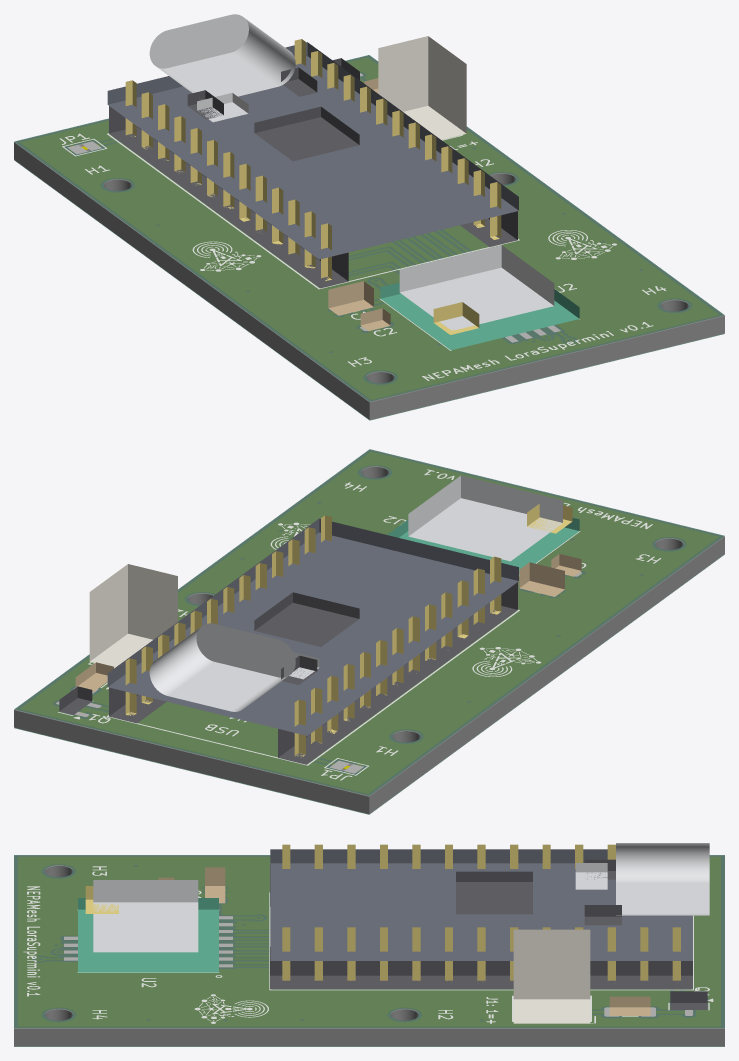
The model's file is nepamesh_lorasupermini_assembled.glb.
3 views of the same model, one above another, from view 1: azimuth 30°, elevation 25°; view 2: azimuth 150°, elevation 25°; view 3: azimuth 270°, elevation 25° (orthographic).
Parts seen in each view (by area): view 1: =>[0:1:1:6]_87a244, =>[0:1:1:2]_e6170b, supermini_pcb_28, usb_c_29, wio_shield_35, jst_ph_37, =>[0:1:1:7]_7aab81, =>[0:1:1:7]_64c7b0, header_spacer_0, wio_pcb_34, nrf52840_30, =>[0:1:1:7]_41fca8 (+7 smaller); view 2: =>[0:1:1:6]_87a244, =>[0:1:1:2]_e6170b, supermini_pcb_28, usb_c_29, wio_shield_35, jst_ph_37, =>[0:1:1:7]_7aab81, =>[0:1:1:7]_e06ff5, header_spacer_0, nrf52840_30, =>[0:1:1:7]_41fca8, wio_pcb_34 (+7 smaller); view 3: =>[0:1:1:6]_87a244, =>[0:1:1:2]_e6170b, supermini_pcb_28, =>[0:1:1:7]_5824ff, header_spacer_14, wio_shield_35, jst_ph_37, usb_c_29, wio_pcb_34, nrf52840_30, =>[0:1:1:7]_41fca8, =>[0:1:1:5]_ff2afd (+17 smaller).
Boxes of the visible parts, x1,y1,x2,y2 form: =>[0:1:1:6]_87a244: (14, 55, 724, 401); =>[0:1:1:2]_e6170b: (21, 58, 717, 398); supermini_pcb_28: (107, 42, 518, 259); usb_c_29: (149, 14, 295, 99); wio_shield_35: (399, 245, 554, 330); jst_ph_37: (378, 36, 466, 139); =>[0:1:1:7]_7aab81: (14, 142, 369, 419); =>[0:1:1:7]_64c7b0: (369, 316, 724, 419); header_spacer_0: (109, 106, 348, 288); wio_pcb_34: (380, 282, 579, 350); nrf52840_30: (254, 106, 359, 161); =>[0:1:1:7]_41fca8: (14, 56, 724, 402); =>[0:1:1:6]_87a244: (14, 449, 724, 795); =>[0:1:1:2]_e6170b: (21, 452, 717, 793); supermini_pcb_28: (107, 518, 518, 735); usb_c_29: (149, 623, 295, 711); wio_shield_35: (408, 475, 562, 561); jst_ph_37: (89, 564, 177, 667); =>[0:1:1:7]_7aab81: (369, 536, 724, 813); =>[0:1:1:7]_e06ff5: (14, 710, 369, 813); header_spacer_0: (278, 582, 517, 764); nrf52840_30: (254, 592, 359, 646); =>[0:1:1:7]_41fca8: (14, 450, 724, 796); wio_pcb_34: (387, 518, 579, 574); =>[0:1:1:6]_87a244: (14, 855, 724, 1028); =>[0:1:1:2]_e6170b: (18, 857, 720, 1025); supermini_pcb_28: (270, 849, 692, 960); =>[0:1:1:7]_5824ff: (14, 1029, 724, 1046); header_spacer_14: (270, 947, 692, 989); wio_shield_35: (93, 880, 198, 952); jst_ph_37: (513, 929, 590, 1023); usb_c_29: (616, 843, 709, 915); wio_pcb_34: (78, 898, 218, 972); nrf52840_30: (456, 871, 532, 914); =>[0:1:1:7]_41fca8: (14, 856, 724, 1028); =>[0:1:1:5]_ff2afd: (269, 892, 693, 990).
Bounding box in the file's own units: 0.032 × 0.00863 × 0.0555.
